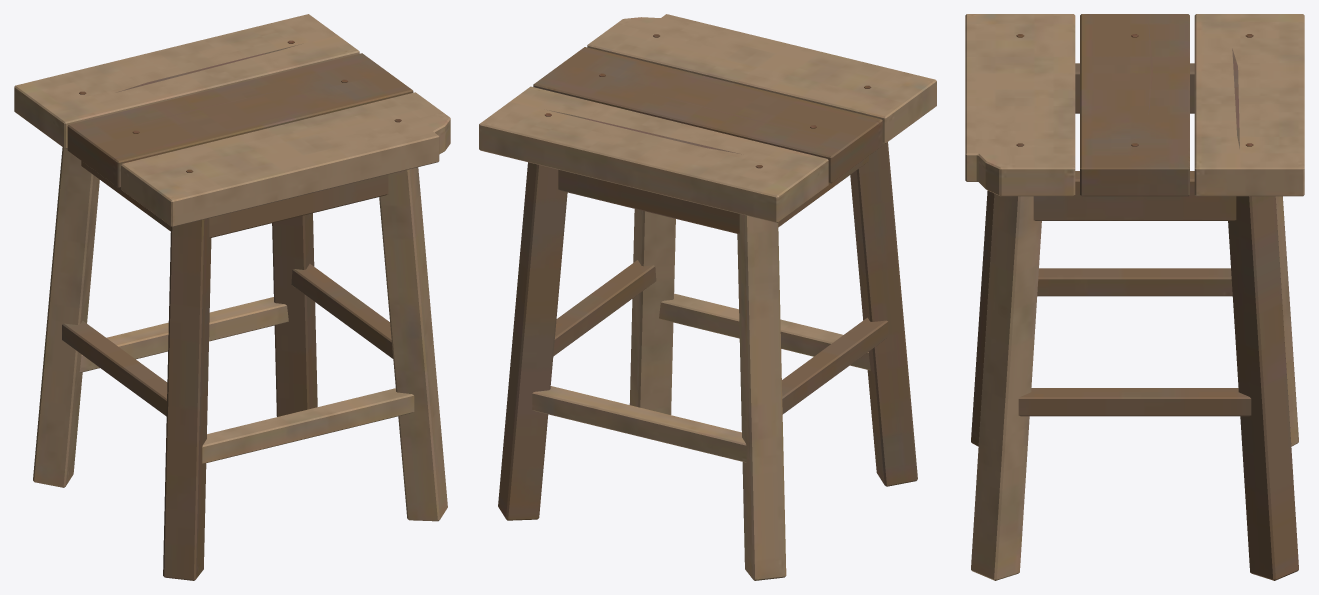
Rendered from L27_stool_v1.glb.
3 views of the same model, side by side, from view 1: azimuth 30°, elevation 25°; view 2: azimuth 150°, elevation 25°; view 3: azimuth 270°, elevation 25° (orthographic). The views are drawn at different scales.
Parts seen in each view (by area): view 1: Seat board; view 2: Seat board; view 3: Seat board.
Part boxes in pixels (x1=…): Seat board: x1=14, y1=14, x2=450, y2=580; Seat board: x1=479, y1=14, x2=936, y2=580; Seat board: x1=965, y1=14, x2=1304, y2=580.
Size of the model in its own units: 0.3953 by 0.5 by 0.3662.
Materials: 3 (3 with a texture image).
